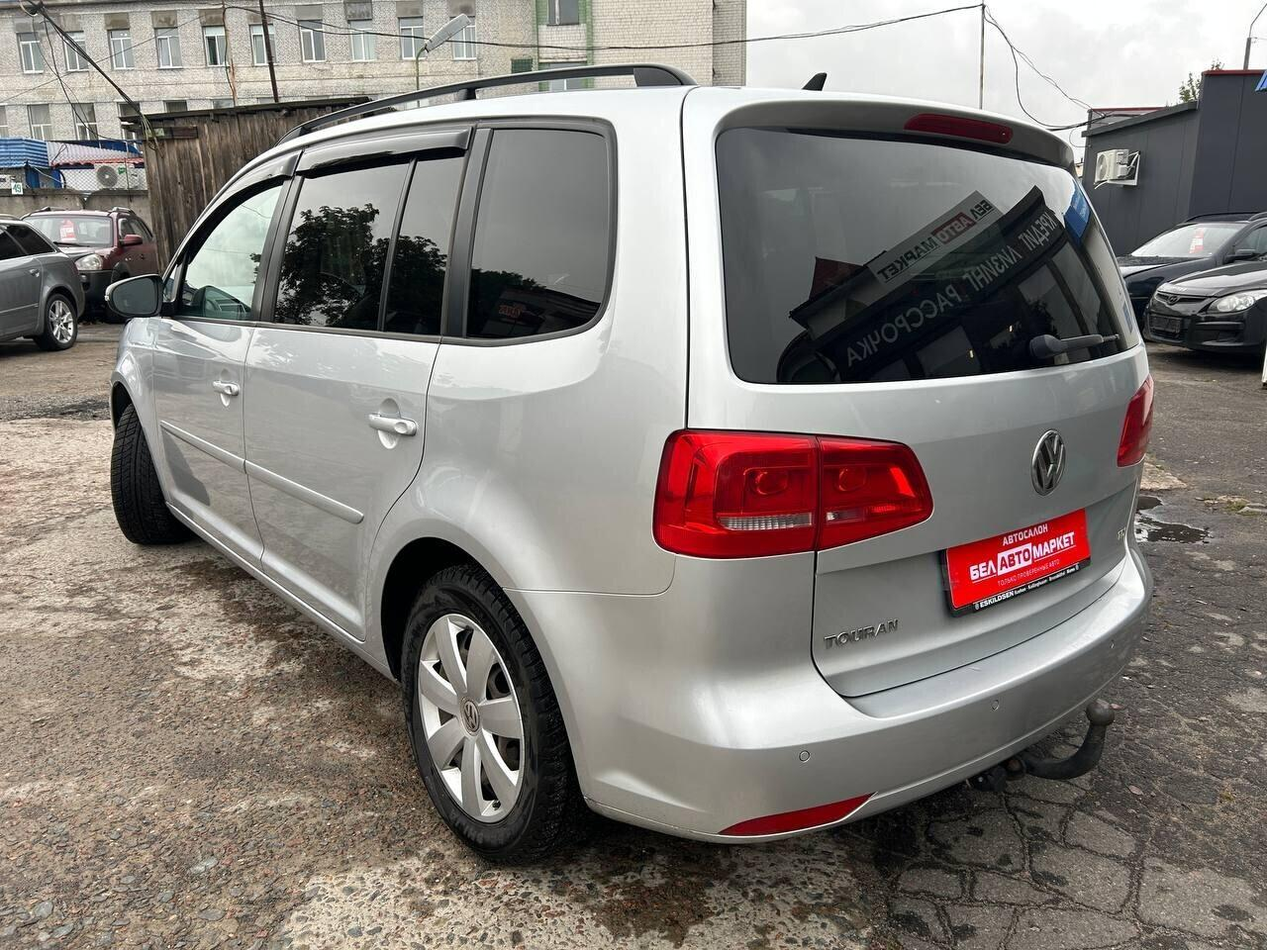Touran_2010-2015: (99, 73, 1170, 877)
